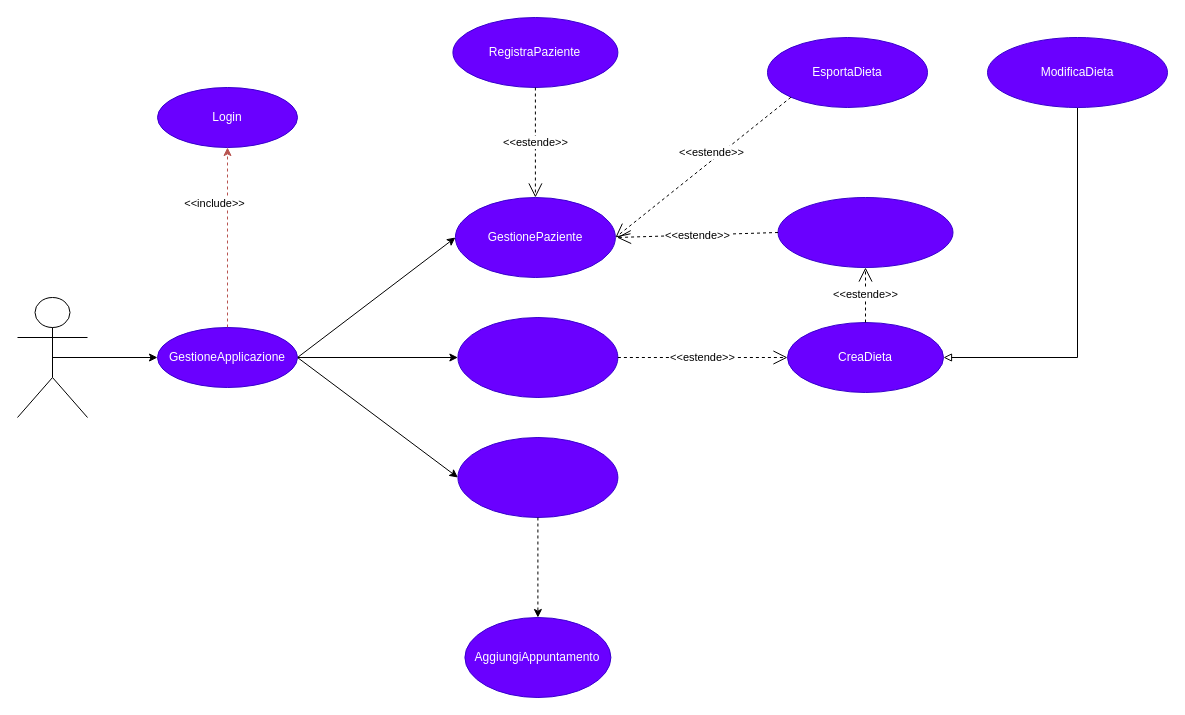
Image size: 1185x715. Some labels were removed from this diagram. Each missing label, with the centre of its shape:
"AggiornaPaziente" goes at pixel 865 232.
"GestioneBaseDati" goes at pixel 537 357.
"GestioneCalendario" goes at pixel 537 477.
"Nutrizionista" goes at pixel 52 357.
